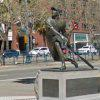Statue: (24, 3, 95, 72)
